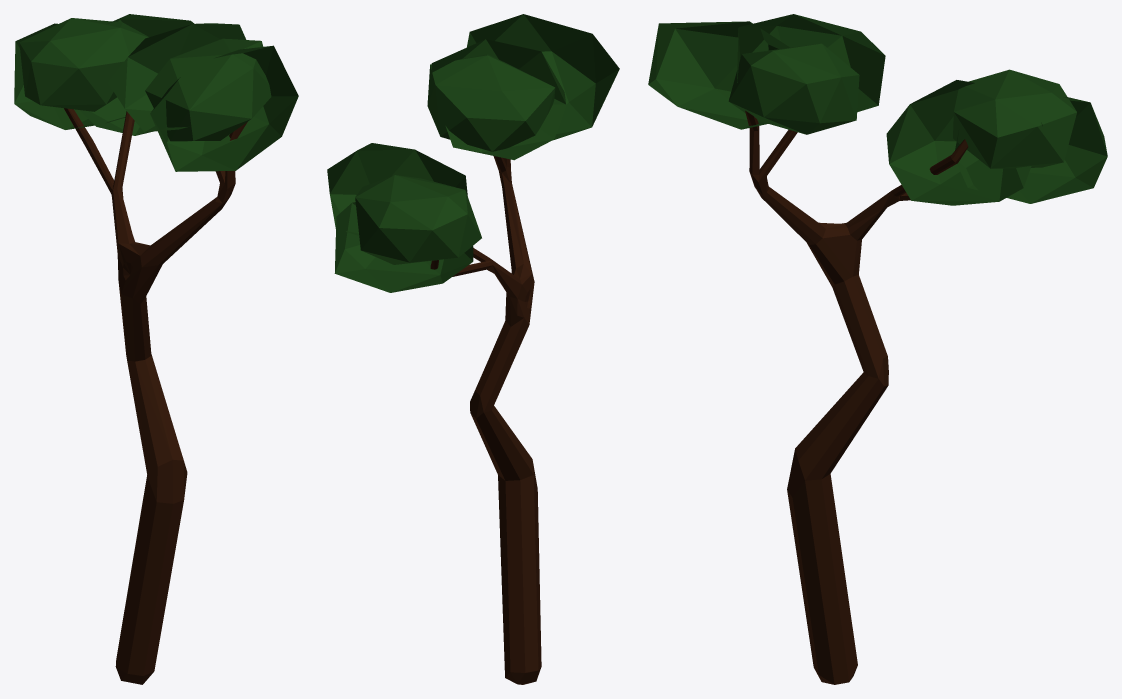
Rendered from tree2.obj.
3 renders of one model, left to right at view 1: azimuth 30°, elevation 25°; view 2: azimuth 150°, elevation 25°; view 3: azimuth 270°, elevation 25°, orthographic. The views are drawn at different scales.
Visible parts, largest first — view 1: Cube, Icosphere.001, Icosphere; view 2: Icosphere.001, Icosphere, Cube; view 3: Cube, Icosphere, Icosphere.001.
Boxes of the visible parts, x1=… form: Cube: x1=64, y1=108, x2=247, y2=684; Icosphere.001: x1=108, y1=23, x2=298, y2=171; Icosphere: x1=14, y1=14, x2=194, y2=135; Icosphere.001: x1=427, y1=14, x2=619, y2=160; Icosphere: x1=327, y1=143, x2=481, y2=292; Cube: x1=430, y1=156, x2=541, y2=684; Cube: x1=745, y1=110, x2=968, y2=684; Icosphere: x1=886, y1=69, x2=1107, y2=205; Icosphere.001: x1=648, y1=14, x2=885, y2=134.
Bounding box in the file's own units: 0.8793 × 3.09 × 1.86.
